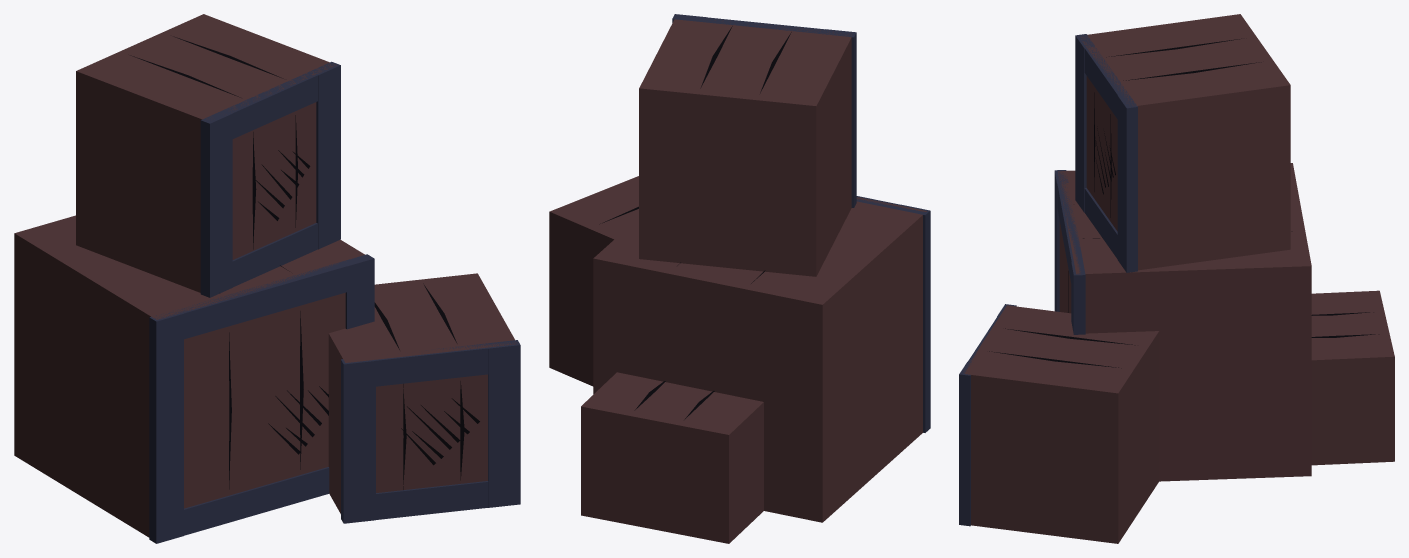
Rendered from crates_stacked.glb.
3 views of the same model, side by side, from view 1: azimuth 30°, elevation 25°; view 2: azimuth 150°, elevation 25°; view 3: azimuth 270°, elevation 25° (orthographic). The views are drawn at different scales.
Parts seen in each view (by area): view 1: crates_stacked.001; view 2: crates_stacked.001; view 3: crates_stacked.001.
Part boxes in pixels (x1,y1,x2,y2): crates_stacked.001: (14, 14, 520, 543); crates_stacked.001: (549, 14, 930, 543); crates_stacked.001: (959, 14, 1394, 543).
Bounding box in the file's own units: 2.09 × 2.14 × 2.25.
